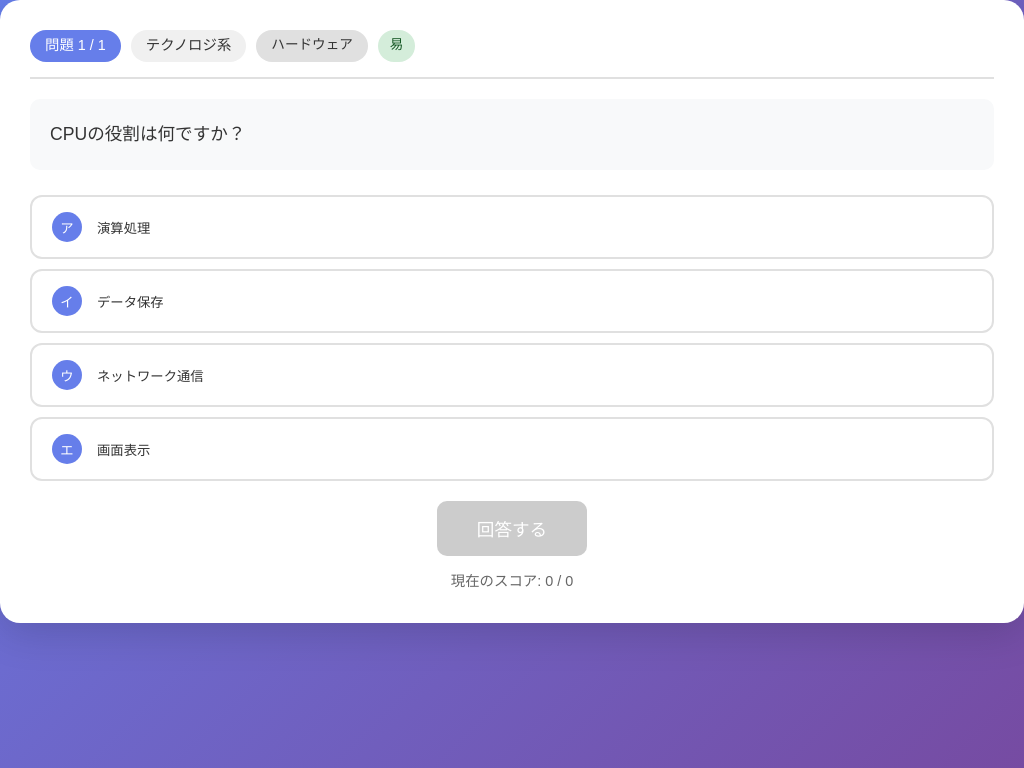
Test case: Quiz › finished state › should show results after completing quiz
The width and height of the screenshot is (1024, 768).
Expected: the text "演算処理" is shown, [97, 221, 150, 236]
Click the button "ア 演算処理".
click(124, 228)  # box [30, 195, 994, 259]
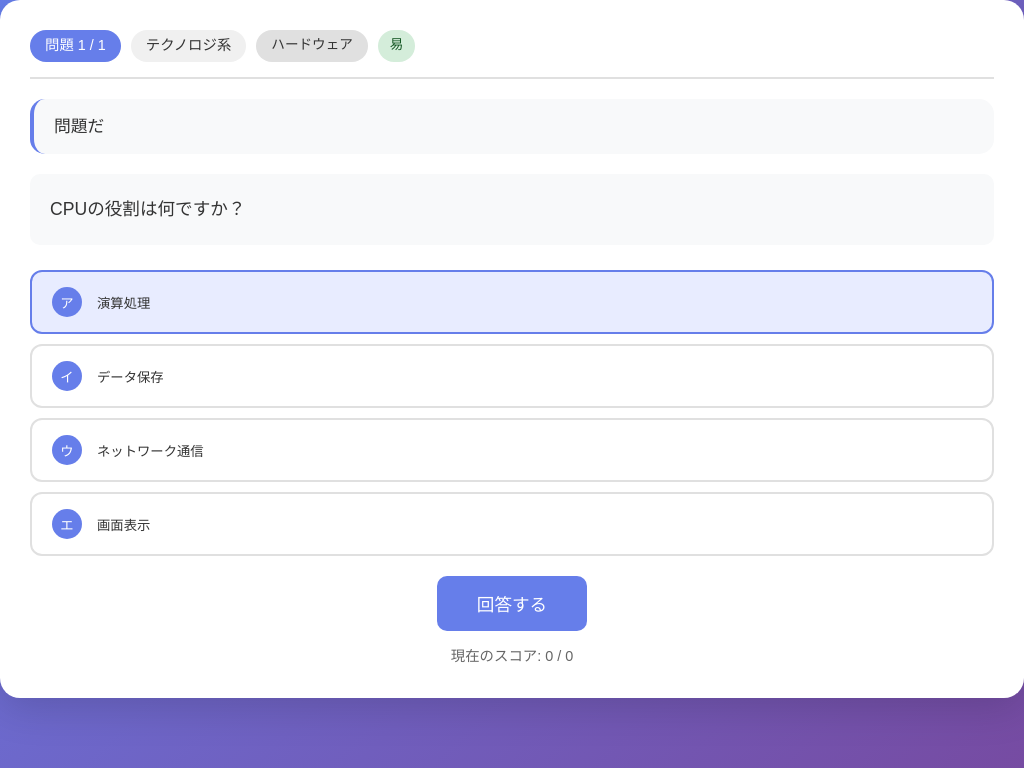
Click the button "回答する".
click(512, 604)  # box [437, 576, 587, 632]
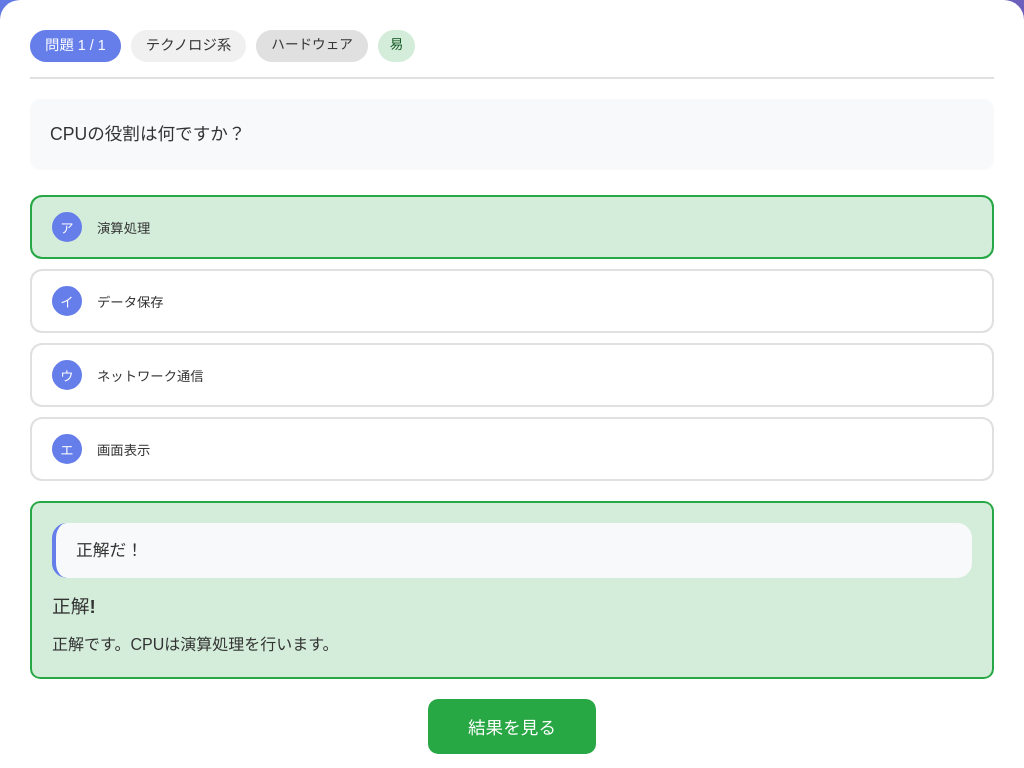
Expected: the button "結果を見る" is shown
Click the button "結果を見る".
click(512, 727)  # box [428, 699, 596, 754]
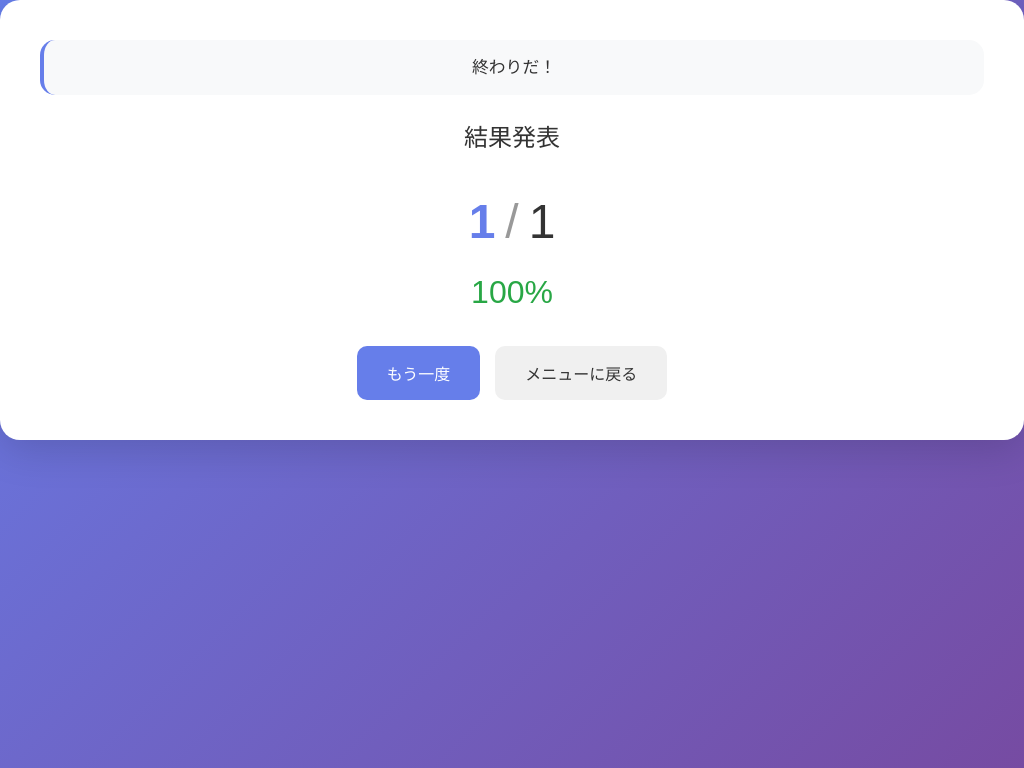
Expected: the heading "結果発表" is shown, [464, 124, 560, 151]
Expected: the text "100%" is shown, [471, 274, 553, 310]
